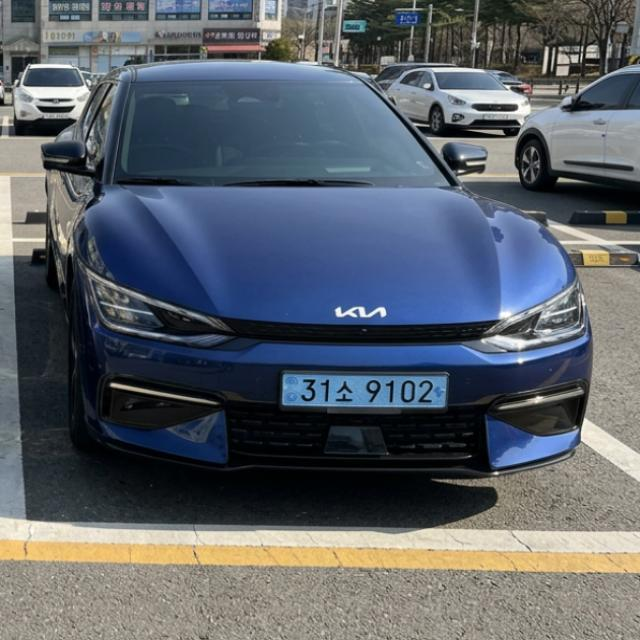car: (264, 363, 476, 425)
carev: (280, 373, 302, 409), (433, 373, 452, 414)
